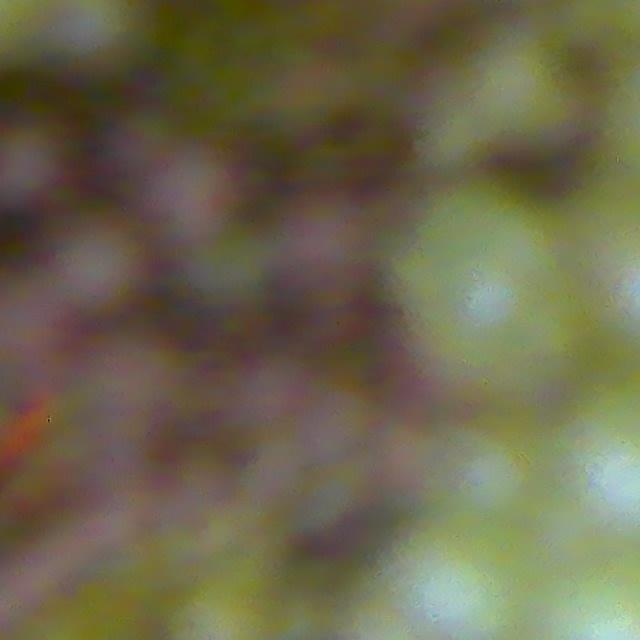SeaGrape: (393, 191, 570, 412), (393, 515, 550, 640), (57, 224, 156, 318), (143, 133, 242, 227), (274, 195, 373, 289), (183, 173, 282, 267), (0, 125, 70, 216)
